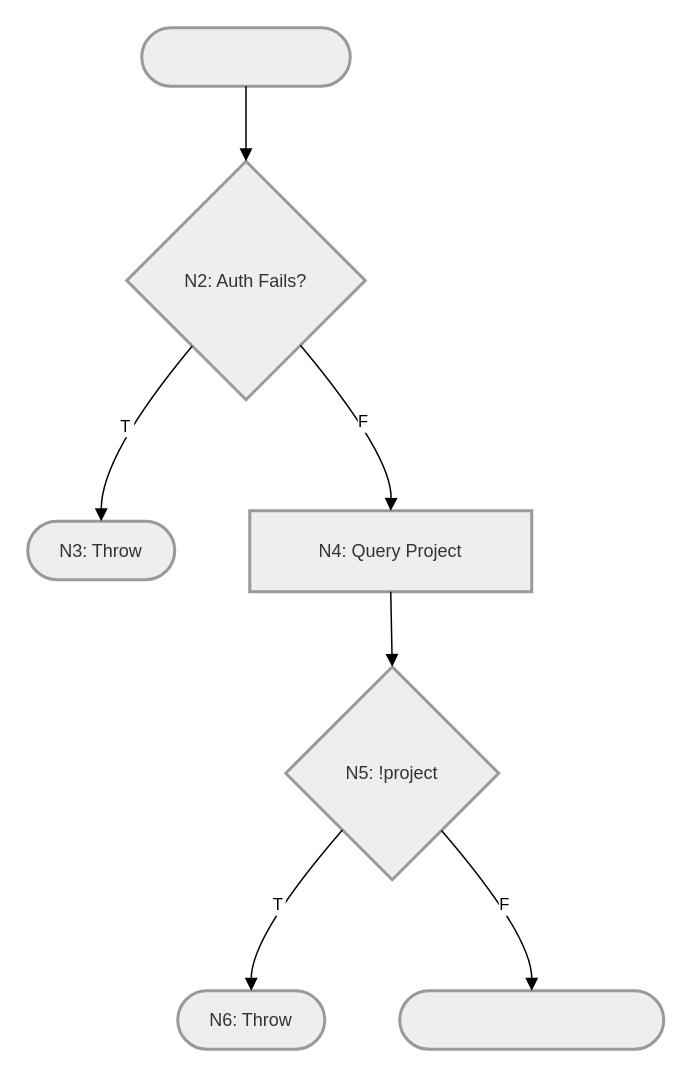
Some shapes in this 690 by 1076 pixel diagram are drawn without their labels. Each missing label, with the centre of its shape:
"N1: Start / Auth" belongs at [245,56].
"N7: Destroy & Return" belongs at [531,1019].
